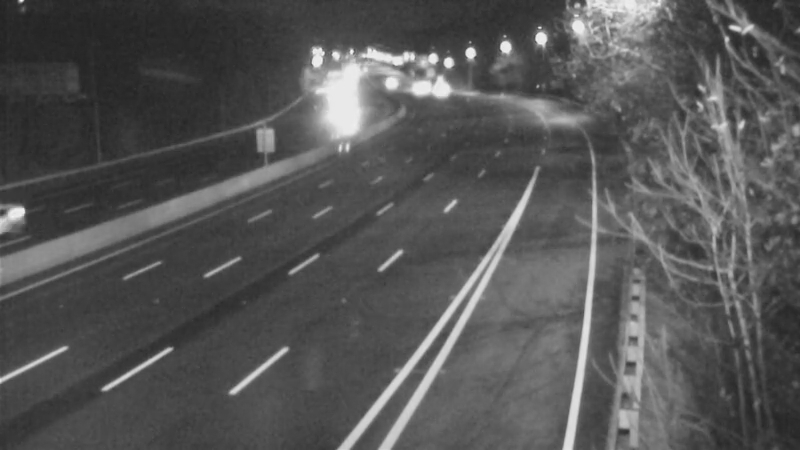vehicle: (1, 179, 66, 259), (366, 59, 416, 109), (395, 61, 445, 111), (411, 63, 461, 113), (315, 93, 365, 143)
